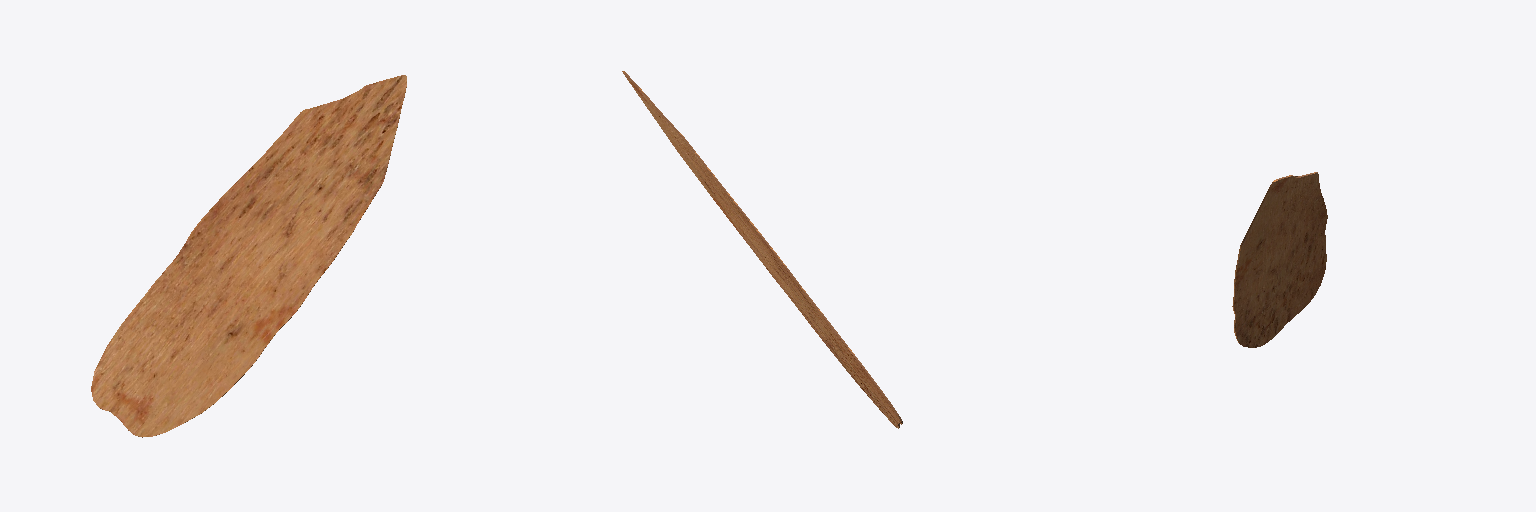
The picture shows the model from 3 angles: view 1: azimuth 30°, elevation 25°; view 2: azimuth 150°, elevation 25°; view 3: azimuth 270°, elevation 25°; orthographic projection.
Visible parts, largest first — view 1: Layer_0; view 2: Layer_0; view 3: Layer_0.
Part boxes in pixels (bbox=[...]): Layer_0: bbox=[91, 75, 406, 437]; Layer_0: bbox=[622, 71, 902, 428]; Layer_0: bbox=[1232, 172, 1327, 347].
Size of the model in its own units: 3.08 by 2.91 by 0.8534.
1 materials, 1 textured.